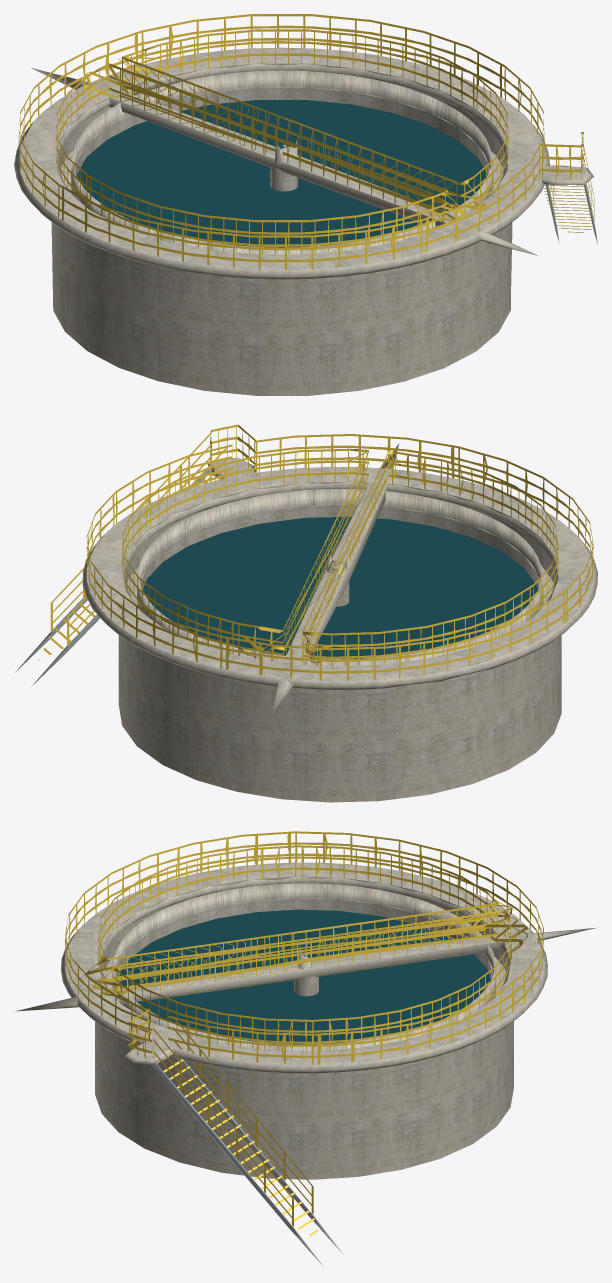
Rendered from shuichiyuan.fbx.
3 renders of one model, top to bottom at view 1: azimuth 30°, elevation 25°; view 2: azimuth 150°, elevation 25°; view 3: azimuth 270°, elevation 25°, orthographic. The views are drawn at different scales.
Parts seen in each view (by area): view 1: 对象015, 对象016, 对象013, 对象012, 对象018, 对象019; view 2: 对象015, 对象016, 对象012, 对象018, 对象019, 对象013, 对象017; view 3: 对象015, 对象016, 对象018, 对象019, 对象012, 对象013, 对象017.
Part boxes in pixels (box(x1,y1,x2,y2)): 对象015: box(14, 47, 593, 395); 对象016: box(20, 63, 510, 395); 对象013: box(76, 100, 487, 247); 对象012: box(76, 100, 486, 247); 对象018: box(18, 14, 594, 269); 对象019: box(20, 14, 594, 269); 对象015: box(82, 443, 597, 802); 对象016: box(118, 481, 561, 802); 对象012: box(143, 516, 537, 658); 对象018: box(38, 424, 593, 680); 对象019: box(50, 424, 593, 680); 对象013: box(143, 516, 536, 658); 对象017: box(15, 469, 209, 686); 对象015: box(16, 862, 597, 1179); 对象016: box(95, 874, 513, 1179); 对象018: box(65, 831, 543, 1241); 对象019: box(65, 831, 543, 1225); 对象012: box(118, 909, 490, 1044); 对象013: box(118, 909, 488, 1044); 对象017: box(153, 1058, 343, 1267).
Bounding box in the file's own units: 57.75 × 20.74 × 57.4.
4 materials, 2 textured.
